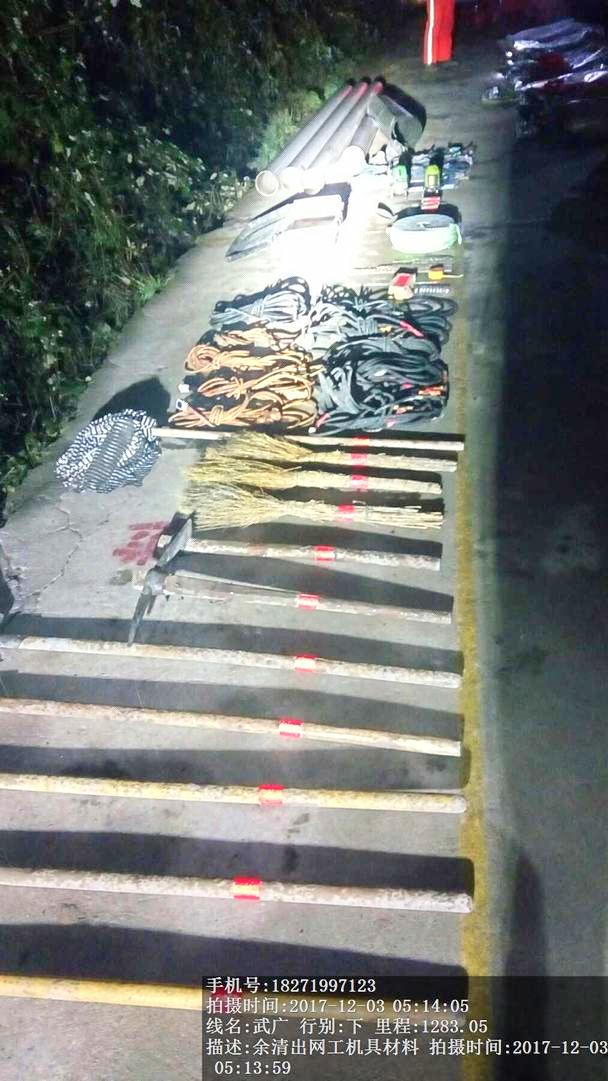SB: (163, 476, 444, 537), (187, 433, 458, 480)
